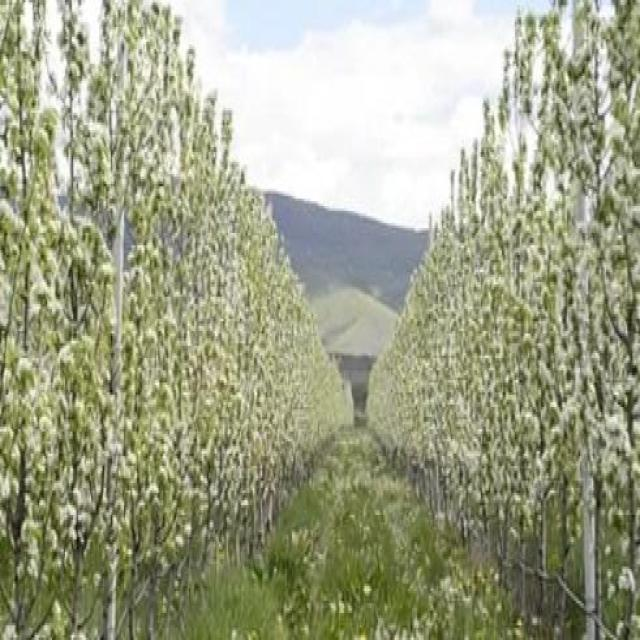row: (157, 423, 546, 640)
